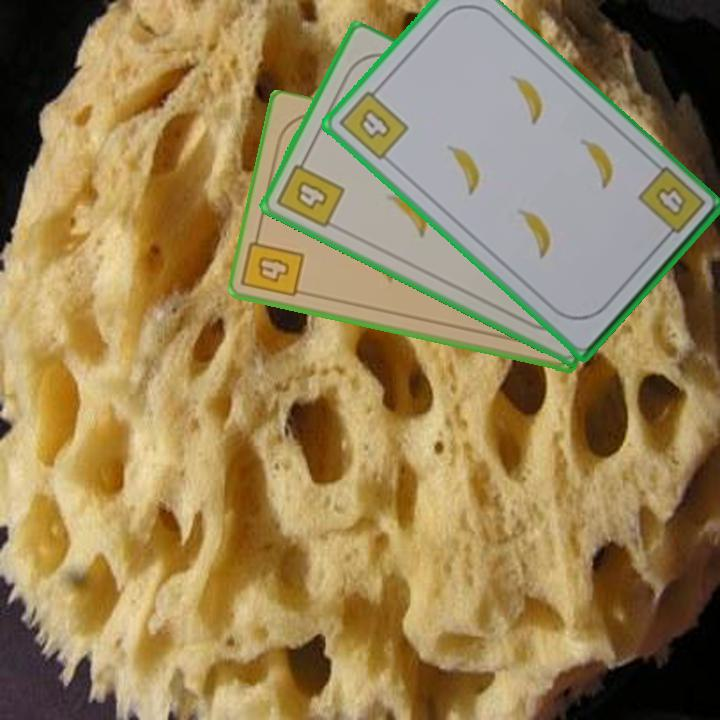4b: (335, 81, 412, 163), (636, 163, 708, 246), (273, 152, 348, 231), (239, 229, 308, 300)
